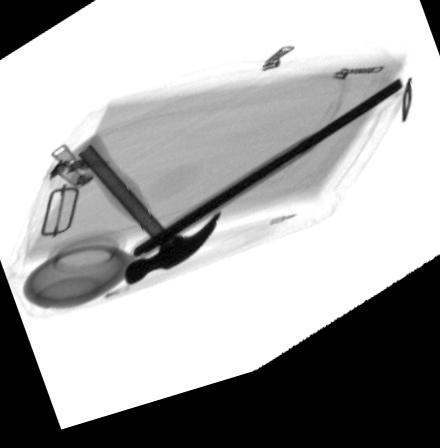Hammer: (66, 137, 223, 293)
Pliers: (129, 103, 403, 269)
